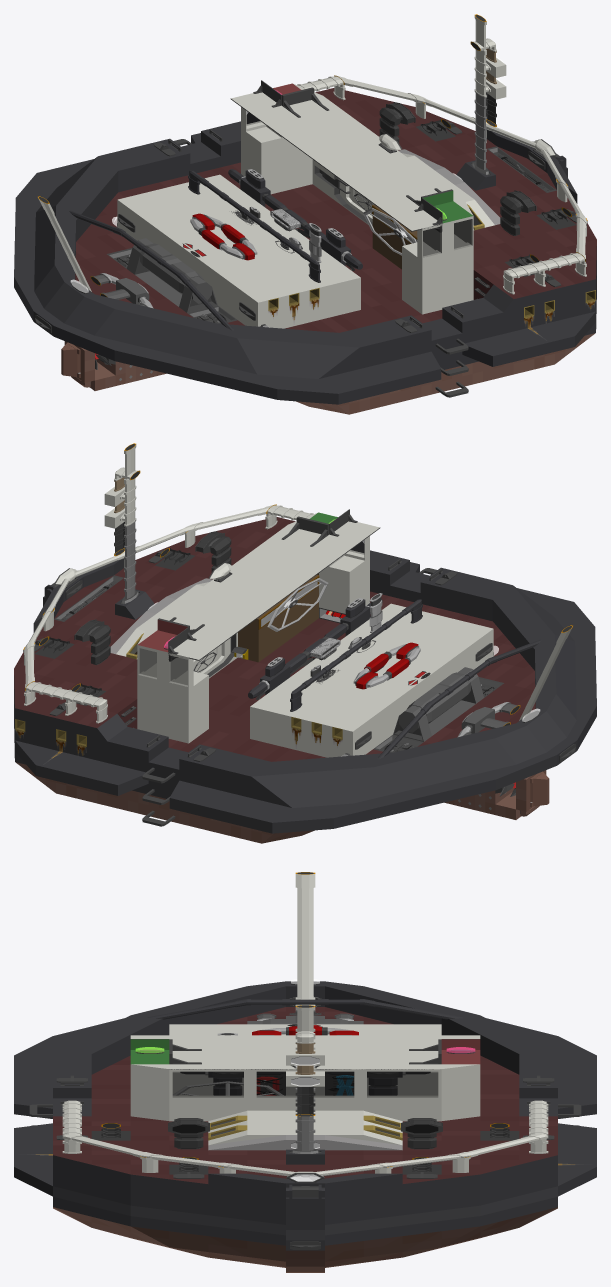
File: ship-tug.glb
3 views of the same model, one above another, from view 1: azimuth 30°, elevation 25°; view 2: azimuth 150°, elevation 25°; view 3: azimuth 270°, elevation 25° (orthographic). The views are drawn at different scales.
Parts seen in each view (by area): view 1: Object_4, Object_10; view 2: Object_4, Object_10; view 3: Object_4, Object_10, Object_11.
Part boxes in pixels (bbox=[...]): Object_4: bbox=[14, 14, 596, 414]; Object_10: bbox=[191, 111, 594, 316]; Object_4: bbox=[14, 443, 596, 843]; Object_10: bbox=[16, 540, 429, 745]; Object_4: bbox=[14, 872, 596, 1272]; Object_10: bbox=[172, 1024, 438, 1136]; Object_11: bbox=[290, 979, 320, 1181].
Bounding box in the file's own units: 1 × 0.4917 × 1.
Materials: 5 (5 with a texture image).
